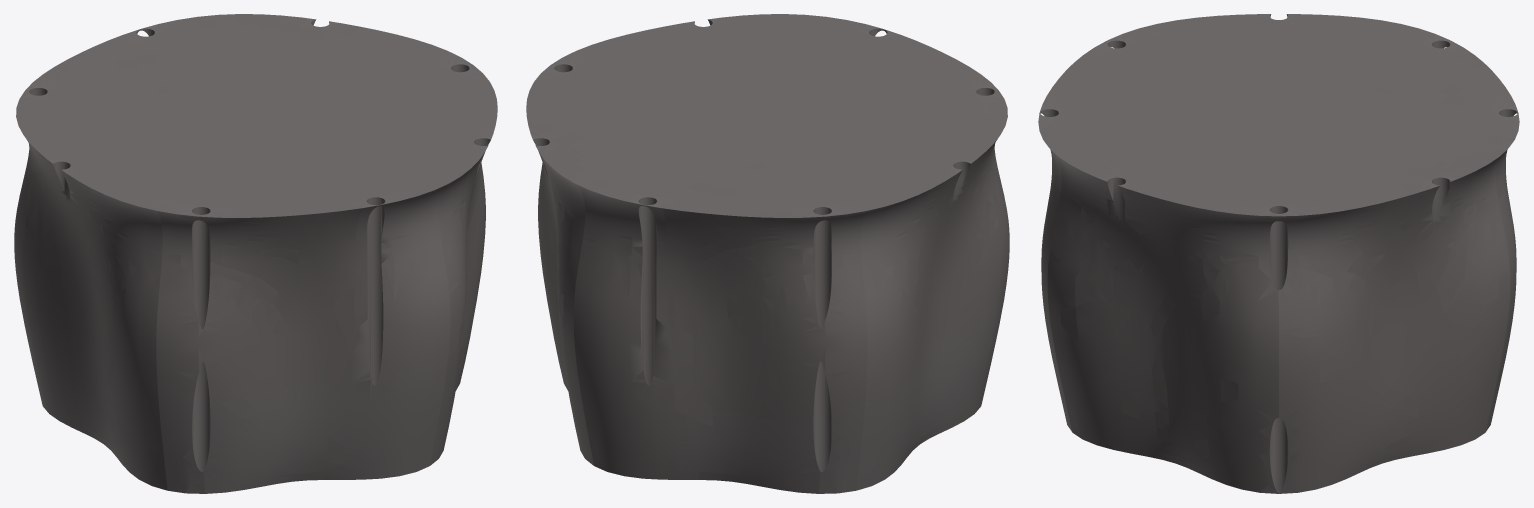
The model's file is pop_pin__knob_cap.glb.
3 renders of one model, left to right at view 1: azimuth 30°, elevation 25°; view 2: azimuth 150°, elevation 25°; view 3: azimuth 270°, elevation 25°, orthographic.
Parts seen in each view (by area): view 1: world; view 2: world; view 3: world.
Part boxes in pixels (x1,y1,x2,y2): world: (14,14,497,493); world: (526,14,1009,493); world: (1038,14,1519,493).
Size of the model in its own units: 0.0394 by 0.026 by 0.0394.
1 material, 1 textured.
